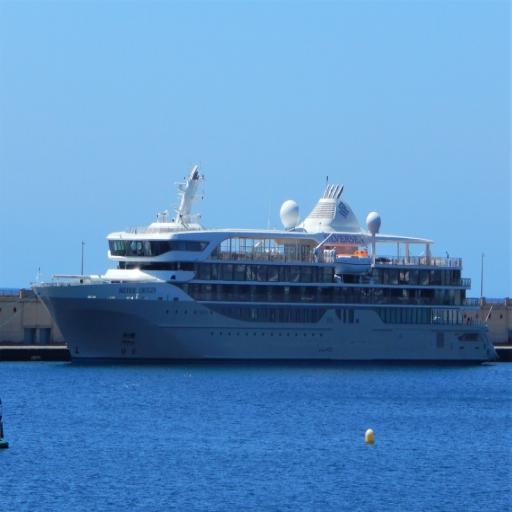cruises: (32, 164, 500, 372)
